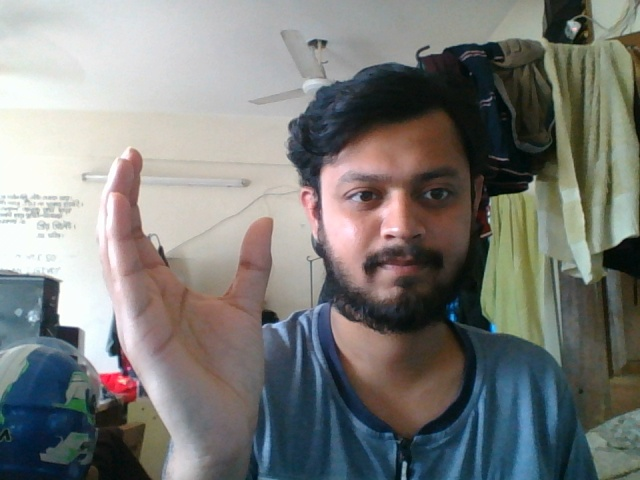o: (94, 143, 283, 480)
